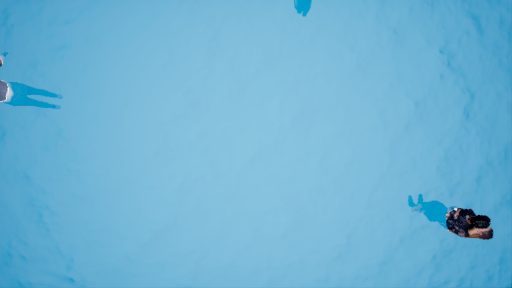person: (396, 193, 492, 245)
